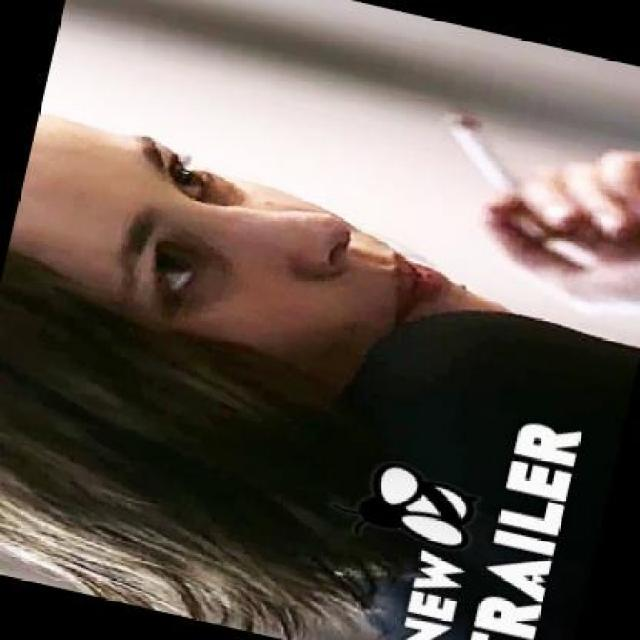cigarette: (432, 109, 534, 202)
